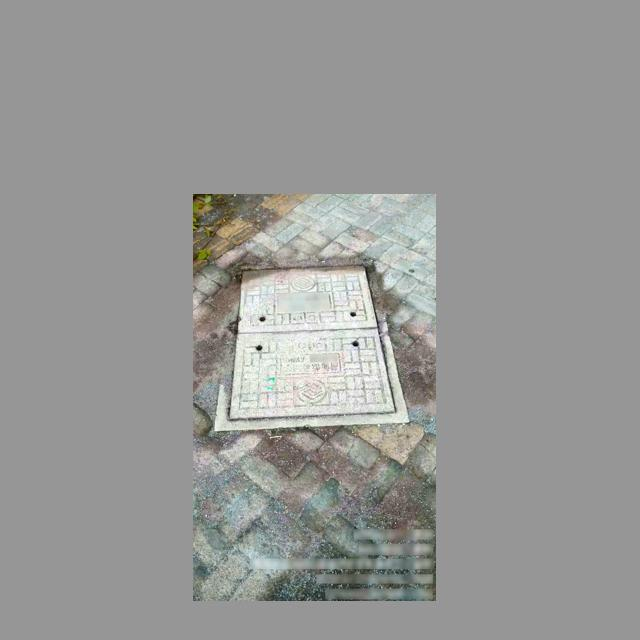good: (216, 258, 411, 433)
